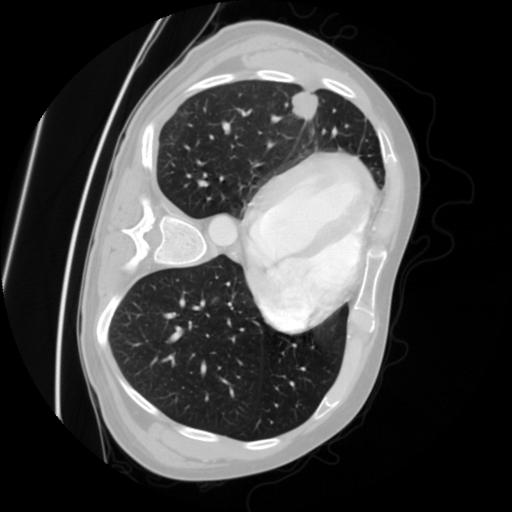nodule: (286, 87, 329, 130)
